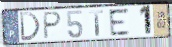1: (139, 4, 153, 37)
5: (66, 9, 84, 39)
D: (18, 11, 42, 42)
E: (107, 7, 131, 37)
P: (42, 11, 63, 41)
T: (88, 9, 105, 37)
